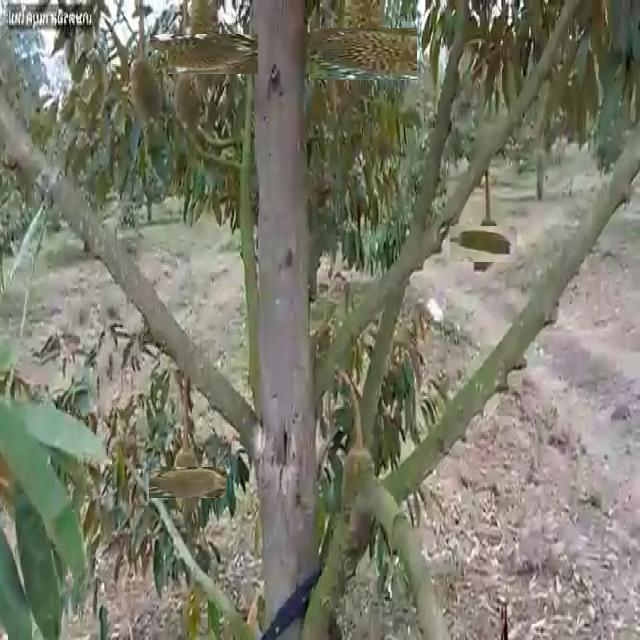durian: (323, 13, 404, 94), (167, 17, 241, 92), (129, 50, 168, 129), (160, 455, 215, 510), (458, 218, 510, 270)
